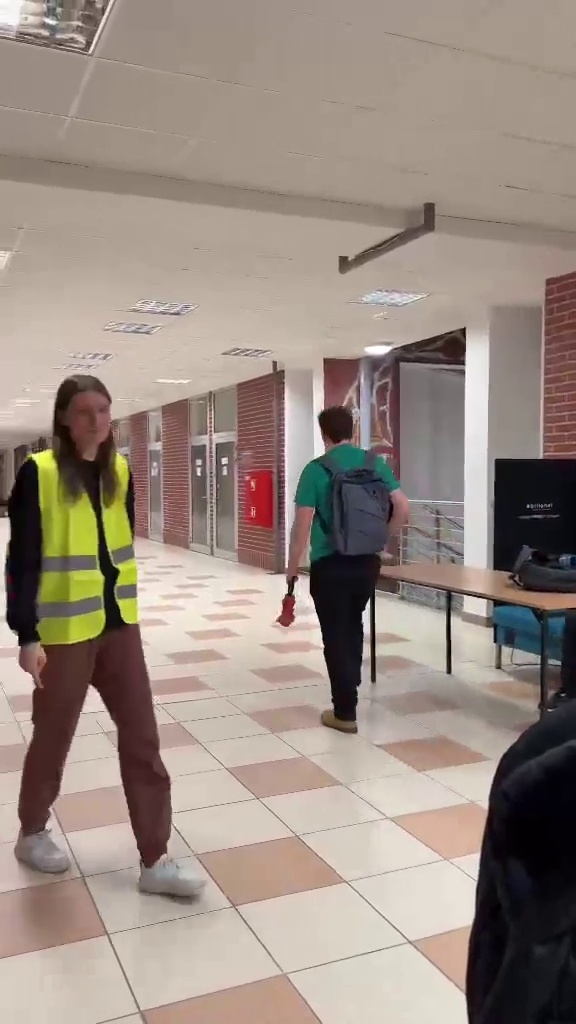no vest: (293, 400, 398, 734)
vest: (14, 369, 202, 898)
